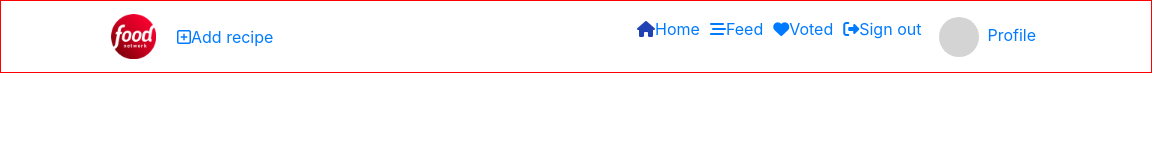
Test: renders Sign in and Sign up buttons again on log out
Click the link "Sign out". click: (882,28)
box: x1=843 y1=18 x2=921 y2=38
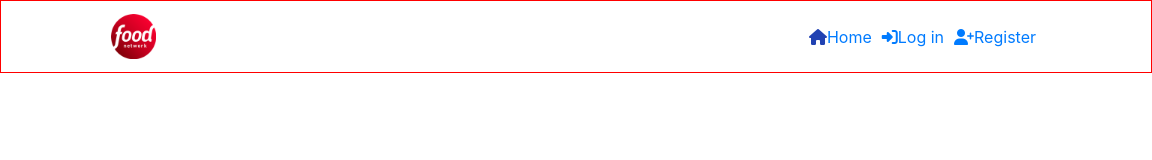
Expected: the link "Log in" is shown, x1=882 y1=26 x2=944 y2=46
Expected: the link "Register" is shown, x1=954 y1=26 x2=1036 y2=46
